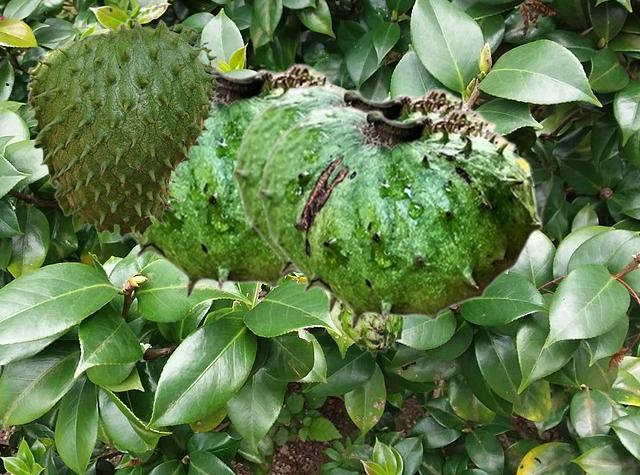guyabano: (256, 105, 542, 331), (231, 84, 507, 314), (128, 60, 345, 299), (26, 17, 223, 243), (317, 290, 409, 356)
